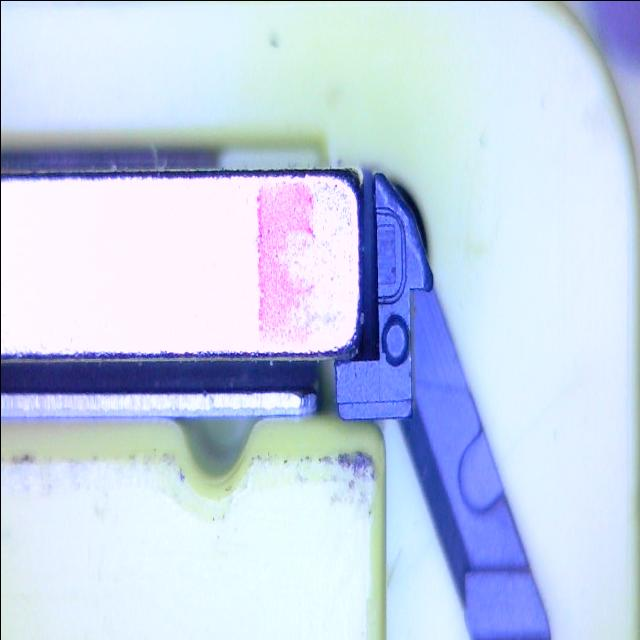noResin: (372, 204, 406, 306)
